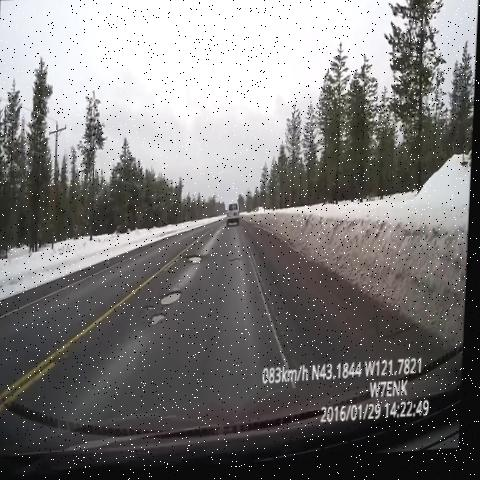pothole: (146, 309, 169, 336), (142, 302, 158, 321)
